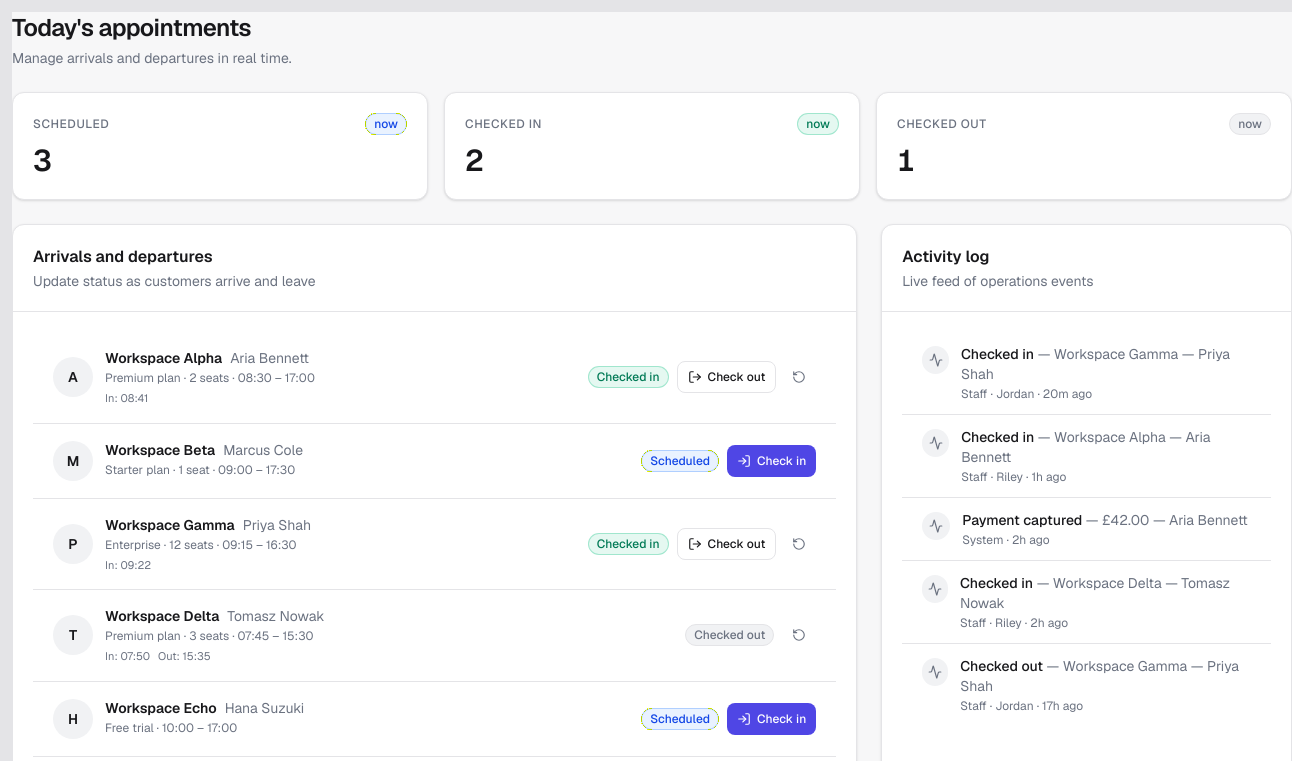
Check-in / check-out workflow › advances a scheduled booking to checked in when the action button is pressed
Expected: the list item "Marcus Cole" is shown, top-left (223, 440), bottom-right (303, 458)
Expected: the text "Scheduled" in the row of "Workspace Beta" is shown, top-left (650, 452), bottom-right (710, 468)
Click the button "Check in" in the row of "Workspace Beta": (772,460) top-left (727, 444), bottom-right (816, 476)
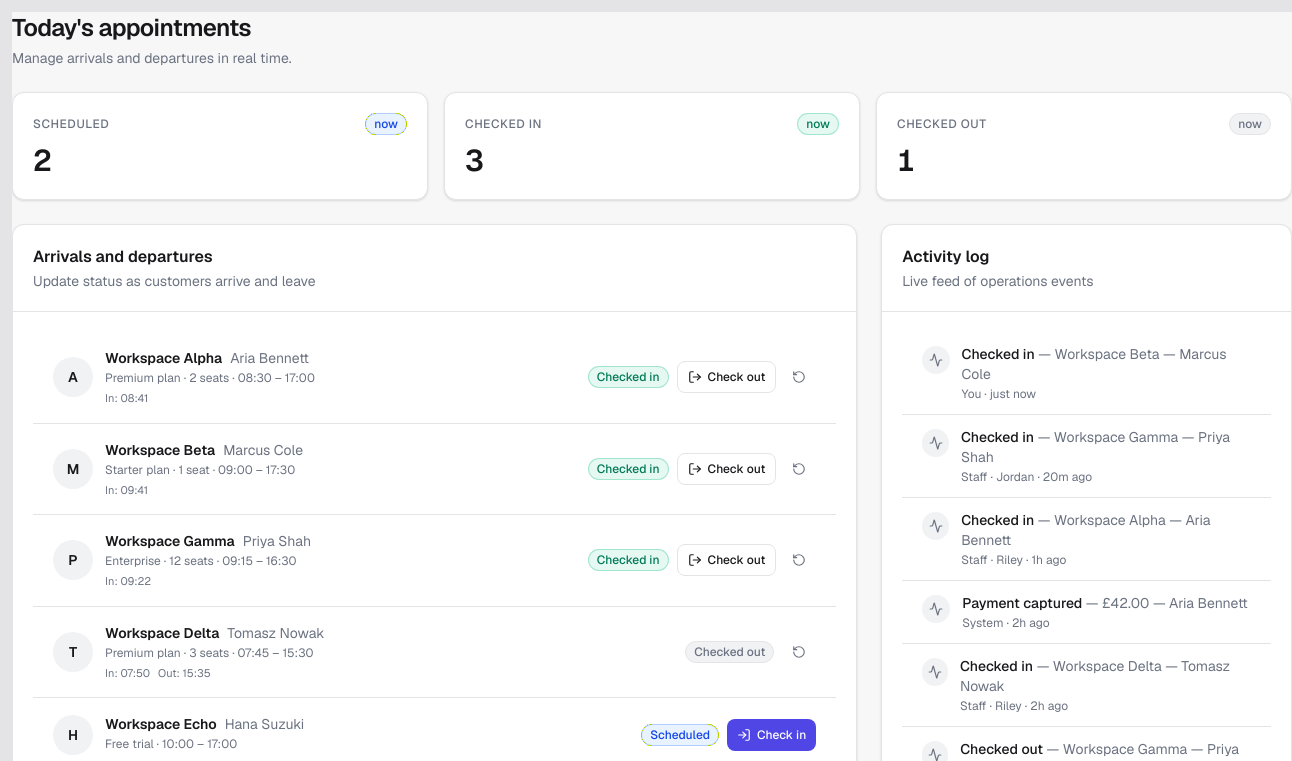
Expected: the text "Checked in" in the row of "Starter plan · 1 seat" is shown, top-left (597, 461), bottom-right (660, 477)
